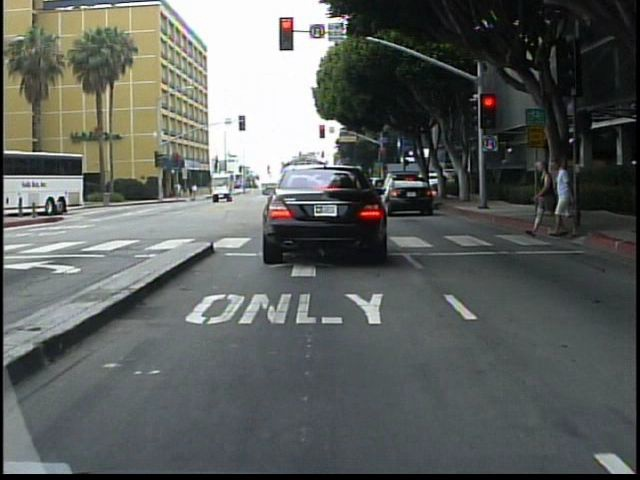person: (553, 158, 578, 241), (534, 159, 555, 240)
